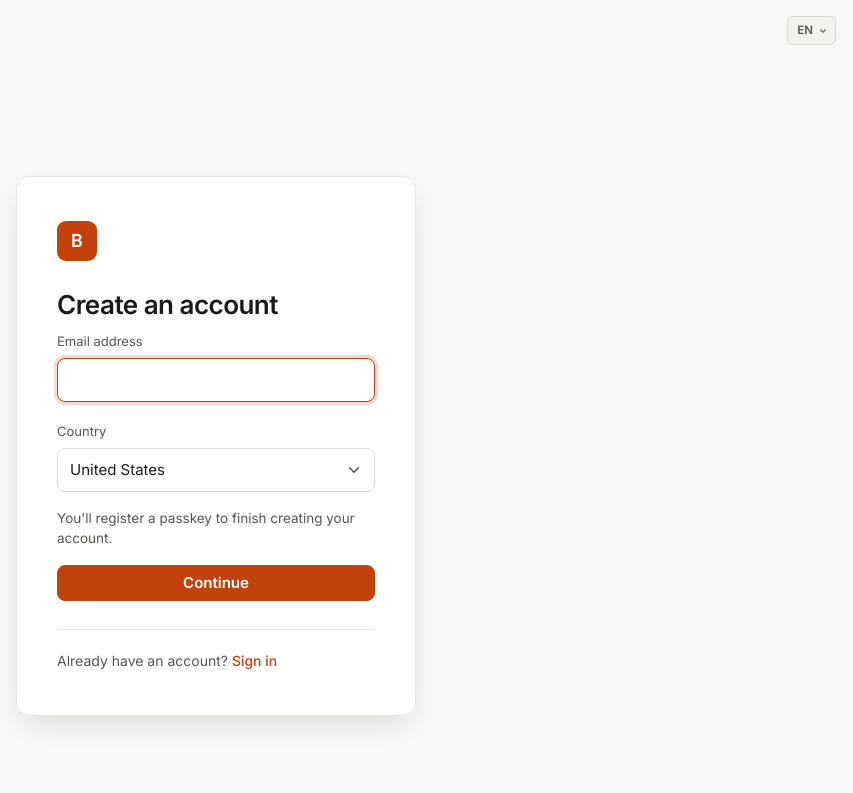
Test: RegisterPage › shows a generic error and stays put when registration fails
The image size is (853, 793).
Type "member@example.com" into the field with id "register-email" at (216,380), box [57, 358, 375, 402]
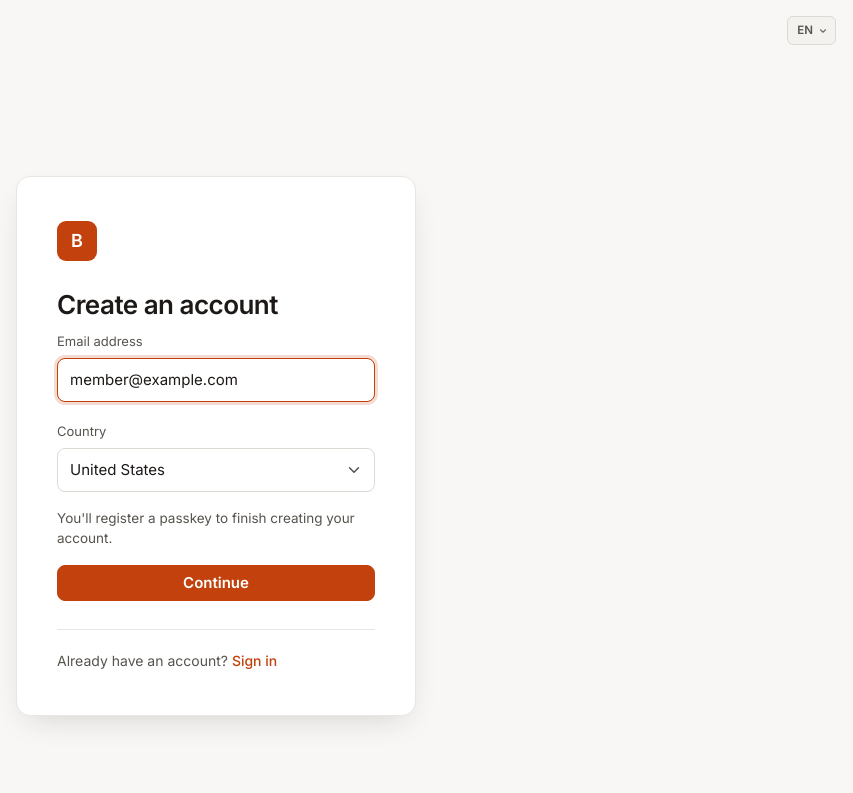
Select "FR" in the dropdown with id "register-country" at (216,470), box [57, 448, 375, 492]
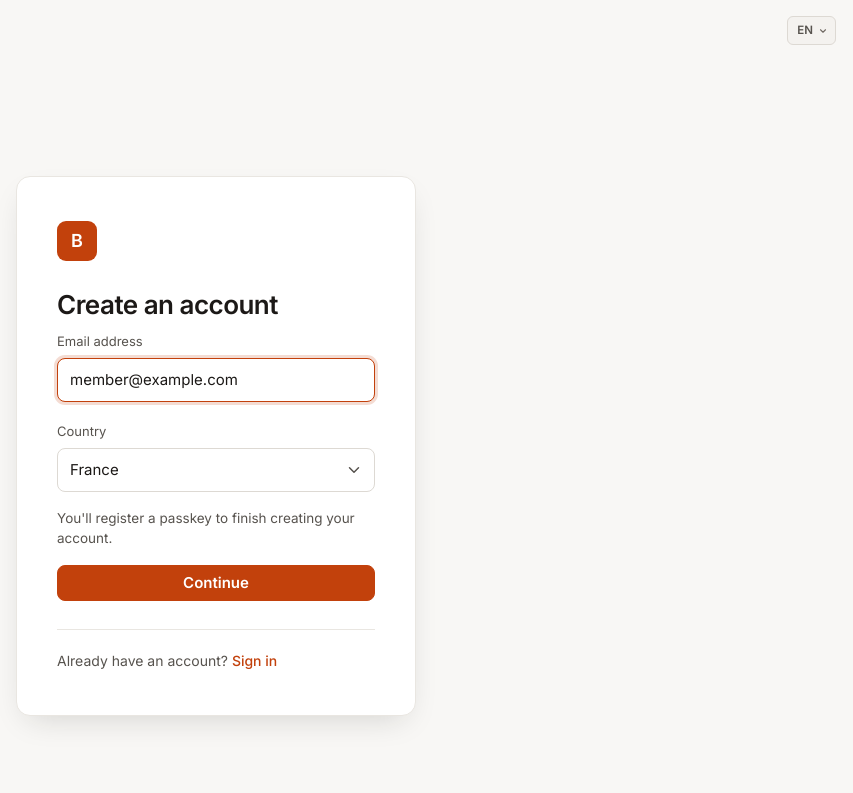
Submit the form, box [57, 328, 375, 601]
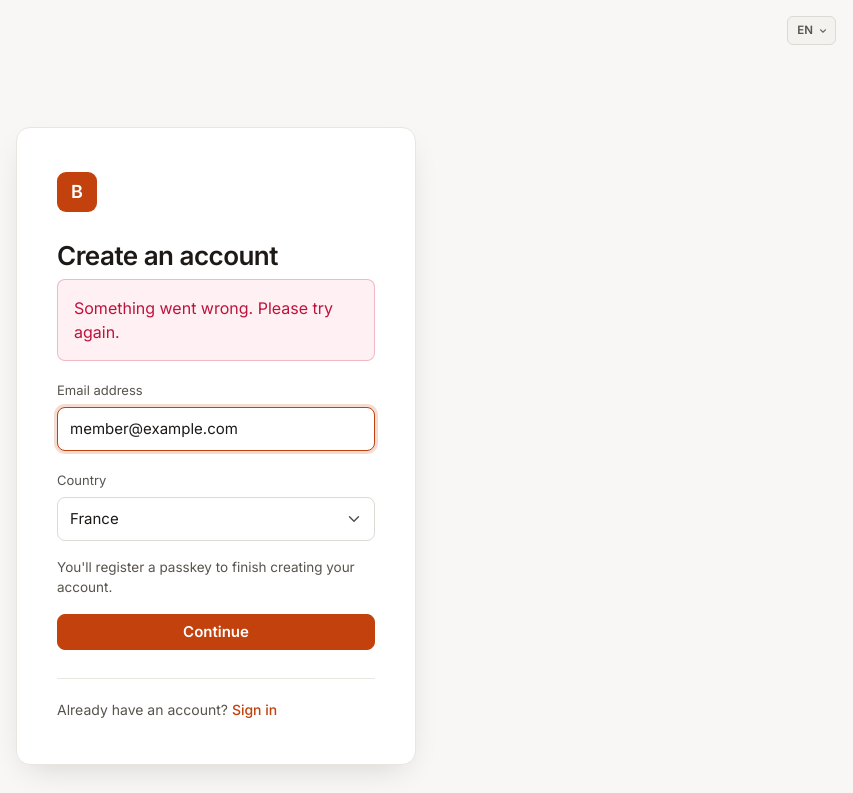
expect the text "Something went wrong. Please try again." is shown: met, box [57, 279, 375, 361]
